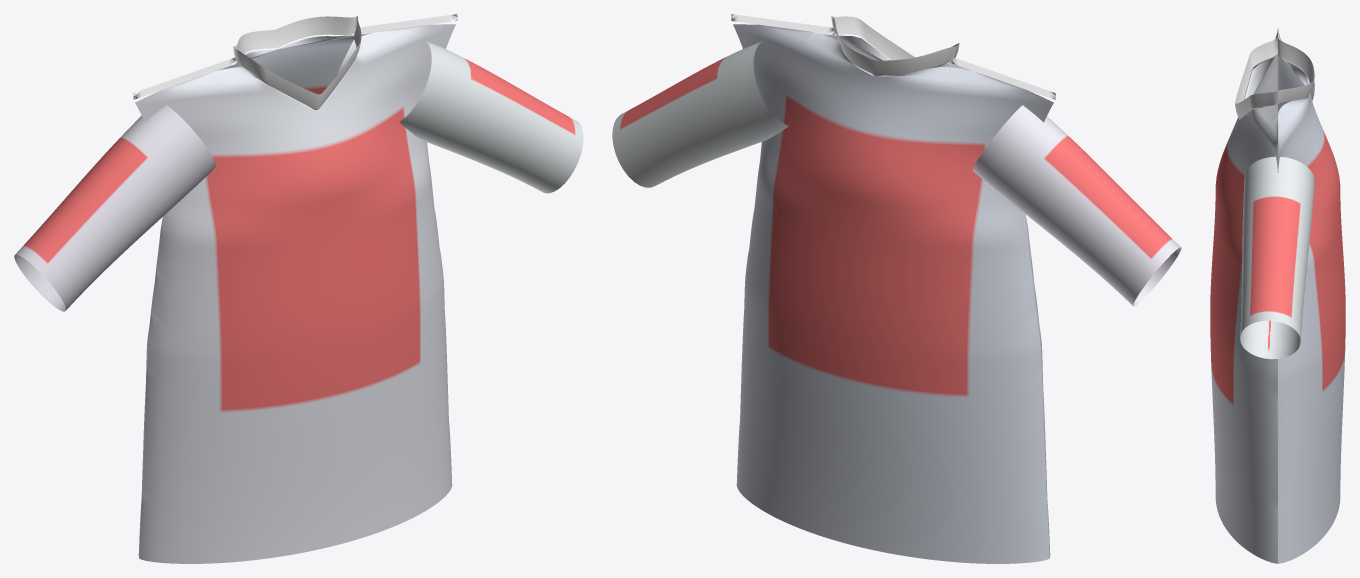
Rendered from classic-tshirt.glb.
3 views of the same model, side by side, from view 1: azimuth 30°, elevation 25°; view 2: azimuth 150°, elevation 25°; view 3: azimuth 270°, elevation 25° (orthographic). The views are drawn at different scales.
Parts seen in each view (by area): view 1: TShirt_Body_front, TShirt_Sleeve_left, TShirt_Sleeve_right, TShirt_Body_back, TShirt_Collar, TShirt_Shoulder; view 2: TShirt_Body_back, TShirt_Sleeve_left, TShirt_Sleeve_right, TShirt_Collar, TShirt_Shoulder, TShirt_Body_front; view 3: TShirt_Body_back, TShirt_Body_front, TShirt_Sleeve_right, TShirt_Collar.
Boxes of the visible parts, box(x1,y1,x2,y2) form: TShirt_Body_front: box(135, 24, 455, 563); TShirt_Sleeve_left: box(14, 105, 215, 311); TShirt_Sleeve_right: box(399, 42, 583, 193); TShirt_Body_back: box(138, 32, 372, 557); TShirt_Collar: box(233, 16, 361, 109); TShirt_Shoulder: box(133, 14, 457, 99); TShirt_Body_back: box(733, 24, 1053, 563); TShirt_Sleeve_left: box(972, 105, 1181, 306); TShirt_Sleeve_right: box(612, 42, 788, 187); TShirt_Collar: box(831, 16, 959, 75); TShirt_Shoulder: box(731, 14, 1055, 99); TShirt_Body_front: box(820, 33, 1050, 557); TShirt_Body_back: box(1278, 28, 1345, 563); TShirt_Body_front: box(1210, 28, 1277, 563); TShirt_Sleeve_right: box(1240, 156, 1314, 359); TShirt_Collar: box(1235, 37, 1314, 118).
Size of the model in its own units: 0.836 by 0.704 by 0.1999.
Materials: 2 (1 with a texture image).
